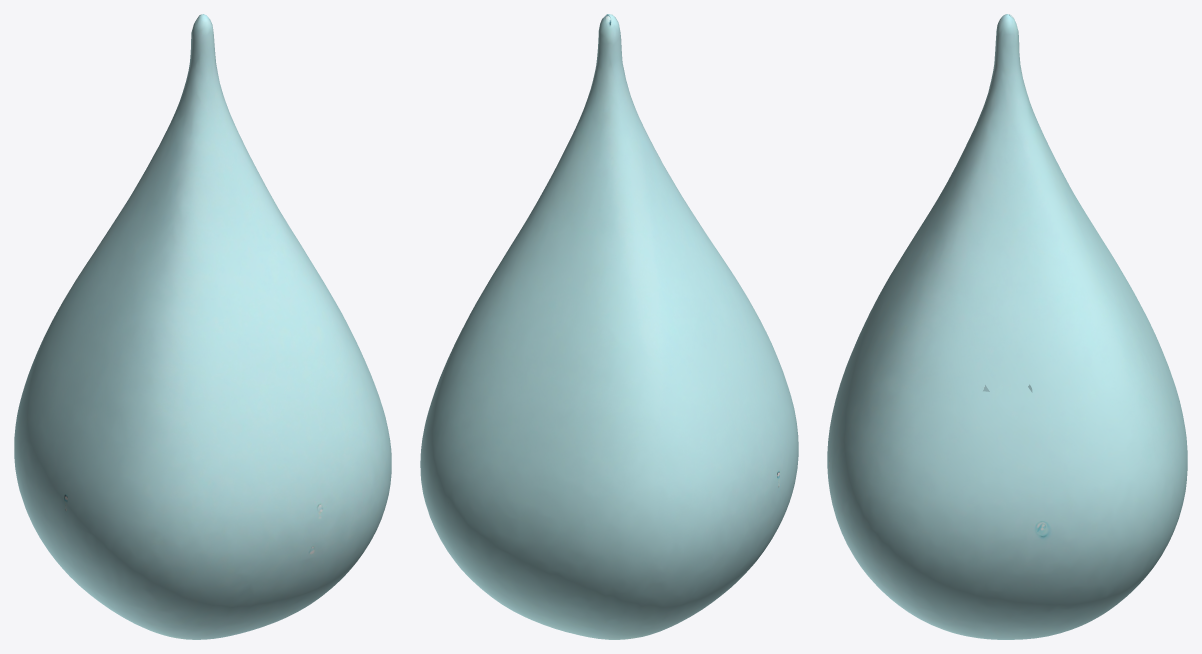
Rendered from A_simple_water_droplet.glb.
3 renders of one model, left to right at view 1: azimuth 30°, elevation 25°; view 2: azimuth 150°, elevation 25°; view 3: azimuth 270°, elevation 25°, orthographic.
Bounding box in the file's own units: 1.06 × 2 × 1.07.
Materials: 1 (1 with a texture image).
